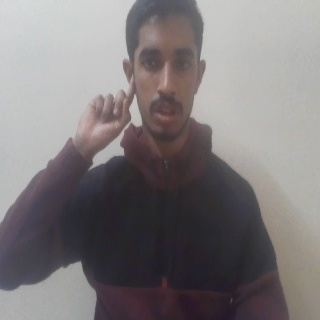Deaf: (71, 73, 135, 157)
Face: (121, 2, 208, 149)
